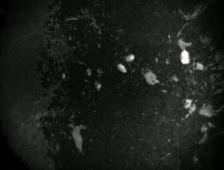corn: (179, 48, 191, 67), (114, 61, 129, 76), (123, 51, 137, 63), (84, 64, 94, 78), (59, 71, 68, 83), (93, 79, 102, 90)
